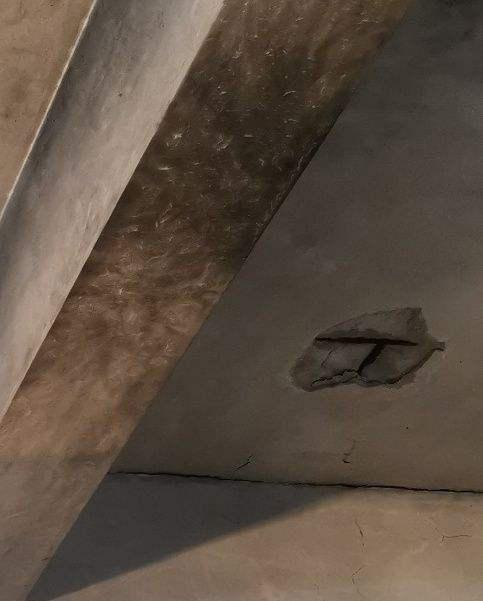Exposed reinforcement: (315, 336, 420, 348), (356, 344, 387, 376)
Spalling: (288, 306, 447, 393)
